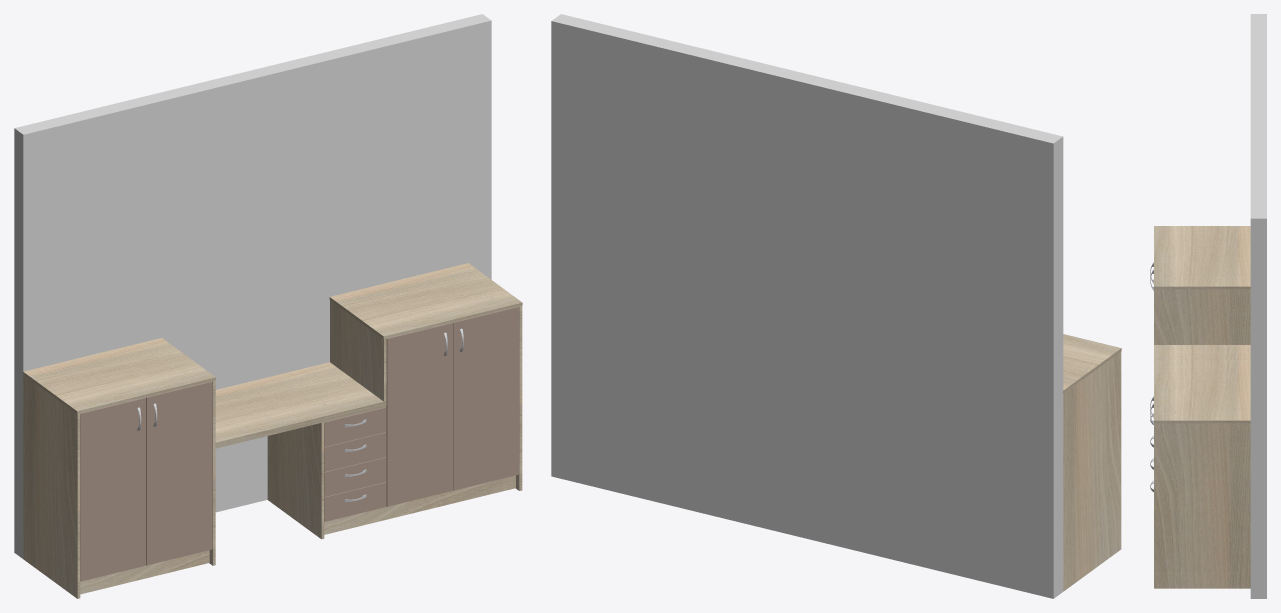
Rendered from IROASZTAL.glb.
3 views of the same model, side by side, from view 1: azimuth 30°, elevation 25°; view 2: azimuth 150°, elevation 25°; view 3: azimuth 270°, elevation 25° (orthographic). The views are drawn at different scales.
Visible parts, largest first — view 1: 3DGeom-168, 3DGeom-13, 3DGeom-46, 3DGeom-57, 3DGeom-2, 3DGeom-71, 3DGeom-83, 3DGeom-76, 3DGeom-82, 3DGeom-165, 3DGeom-79, 3DGeom-167 (+10 smaller); view 2: 3DGeom-168, 3DGeom-71, 3DGeom-76; view 3: 3DGeom-77, 3DGeom-168, 3DGeom-76, 3DGeom-82, 3DGeom-73, 3DGeom-83, 3DGeom-75, 3DGeom-81.
Boxes of the visible parts, x1,y1,x2,y2 form: 3DGeom-168: (14, 14, 491, 558); 3DGeom-13: (80, 398, 146, 581); 3DGeom-46: (453, 307, 518, 490); 3DGeom-57: (387, 323, 452, 506); 3DGeom-2: (147, 382, 212, 565); 3DGeom-71: (23, 375, 77, 598); 3DGeom-83: (215, 362, 383, 442); 3DGeom-76: (23, 338, 215, 411); 3DGeom-82: (330, 263, 521, 336); 3DGeom-165: (267, 423, 321, 538); 3DGeom-79: (330, 300, 383, 401); 3DGeom-167: (324, 475, 515, 534); 3DGeom-168: (551, 14, 1063, 598); 3DGeom-71: (1063, 352, 1121, 591); 3DGeom-76: (1063, 334, 1121, 393); 3DGeom-77: (1154, 423, 1250, 588); 3DGeom-168: (1250, 14, 1266, 598); 3DGeom-76: (1154, 226, 1250, 286); 3DGeom-82: (1154, 360, 1250, 420); 3DGeom-73: (1154, 289, 1250, 344); 3DGeom-83: (1154, 345, 1250, 359); 3DGeom-75: (1154, 286, 1250, 289); 3DGeom-81: (1154, 420, 1250, 423).
Bounding box in the file's own units: 3 × 2.6 × 0.7229.
Materials: 12 (5 with a texture image).
